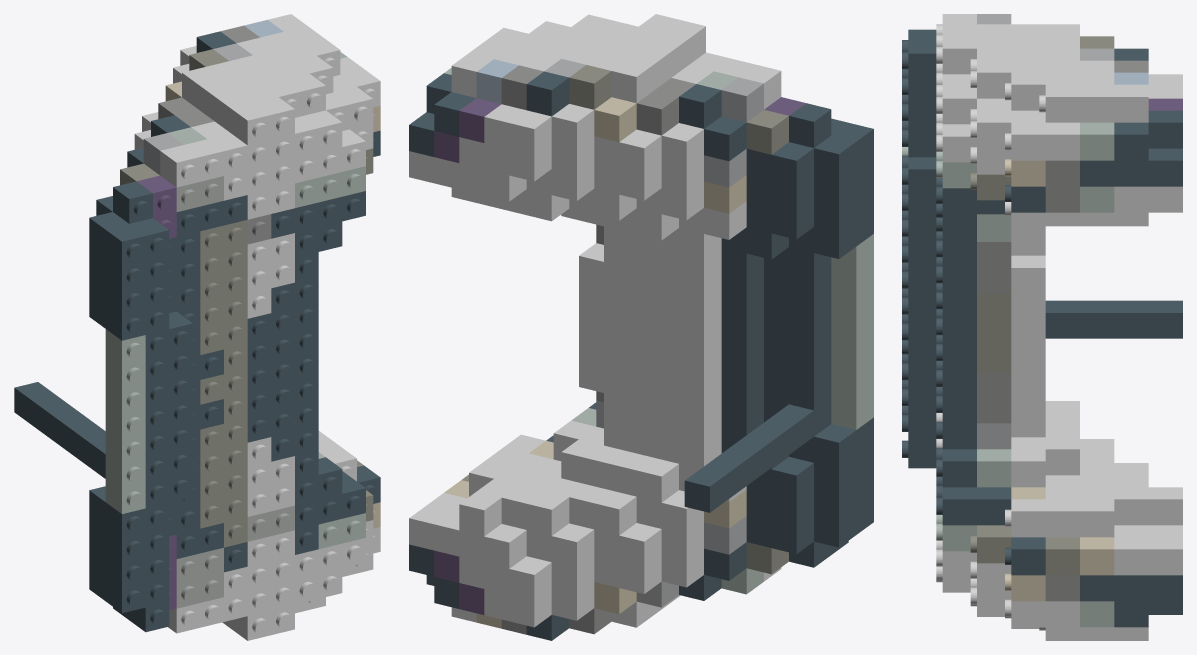
The model's file is full.glb.
3 views of the same model, side by side, from view 1: azimuth 30°, elevation 25°; view 2: azimuth 150°, elevation 25°; view 3: azimuth 270°, elevation 25° (orthographic). The views are drawn at different scales.
Parts seen in each view (by area): view 1: world; view 2: world; view 3: world.
Part boxes in pixels (bbox=[...]): world: bbox=[14, 14, 380, 640]; world: bbox=[409, 14, 873, 640]; world: bbox=[902, 14, 1182, 640].
Size of the model in its own units: 104 by 168 by 78.6.
